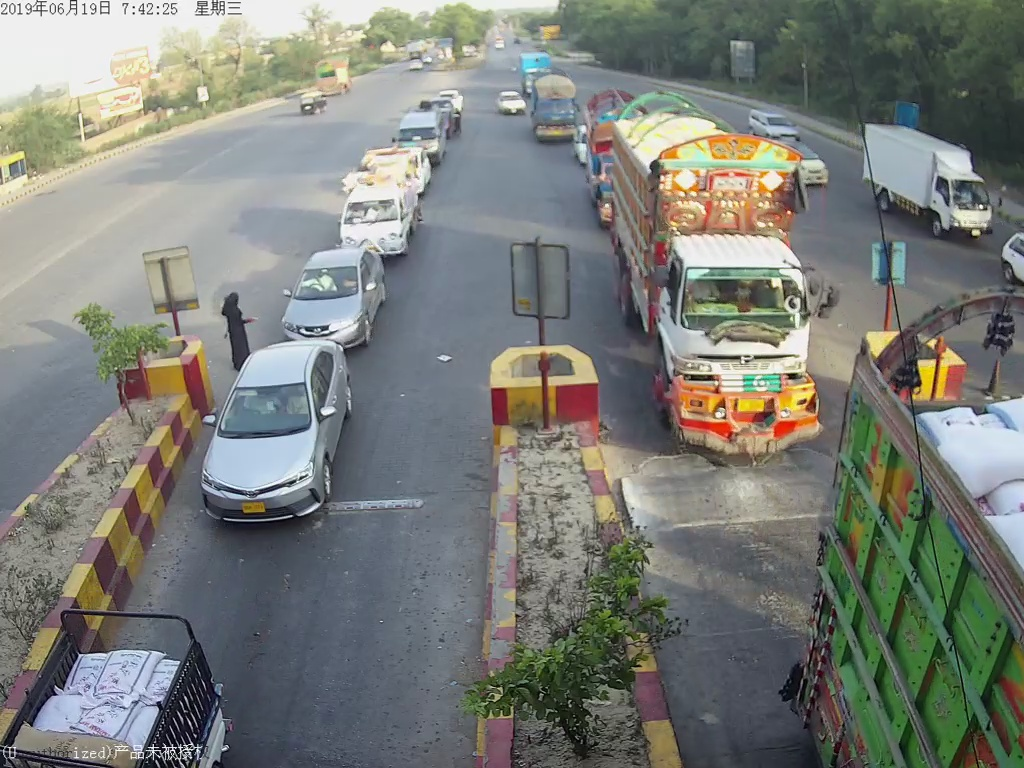Cat-1: (199, 354, 368, 522), (280, 251, 397, 344)
Cat-2: (339, 178, 431, 247)
Cat-4: (619, 124, 838, 464)
